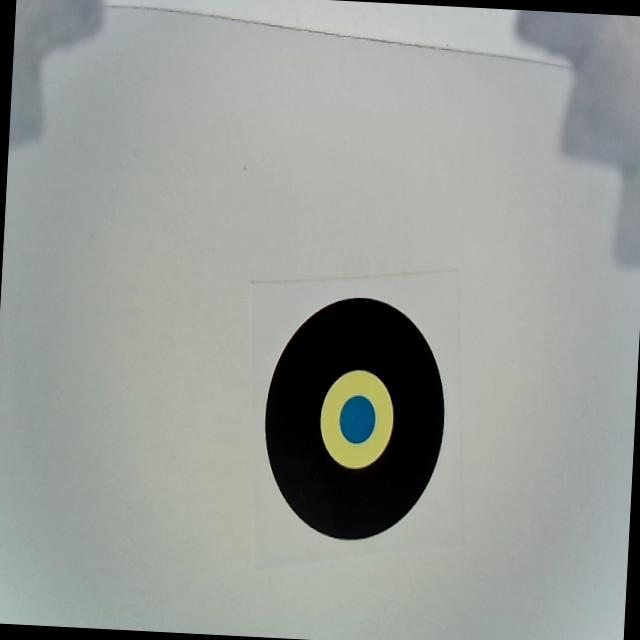cogn: (258, 290, 451, 548)
